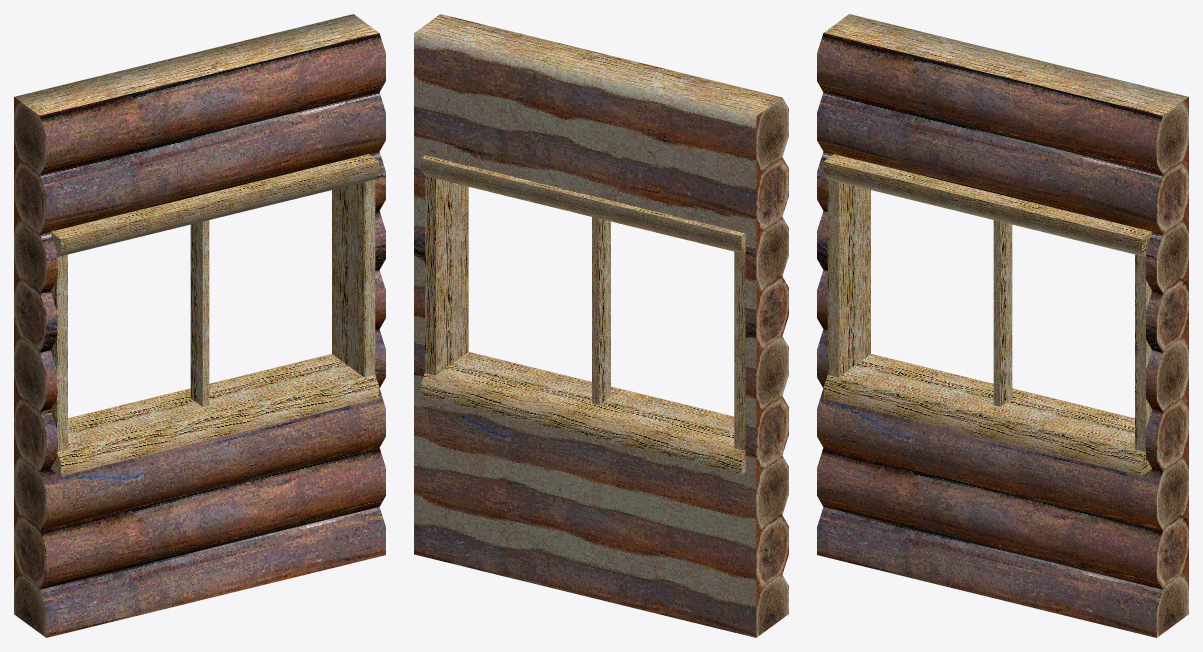
The model's file is wall-A-windowdouble.glb.
The picture shows the model from 3 angles, left to right: view 1: azimuth 30°, elevation 25°; view 2: azimuth 150°, elevation 25°; view 3: azimuth 330°, elevation 25°; orthographic projection.
Visible parts, largest first — view 1: wall-A-windowdouble.001; view 2: wall-A-windowdouble.001; view 3: wall-A-windowdouble.001.
Boxes of the visible parts, x1,y1,x2,y2 form: wall-A-windowdouble.001: (14,14,385,637); wall-A-windowdouble.001: (414,14,788,637); wall-A-windowdouble.001: (817,14,1188,637).
Size of the model in its own units: 2 by 2.91 by 0.411.
Materials: 2 (2 with a texture image).
